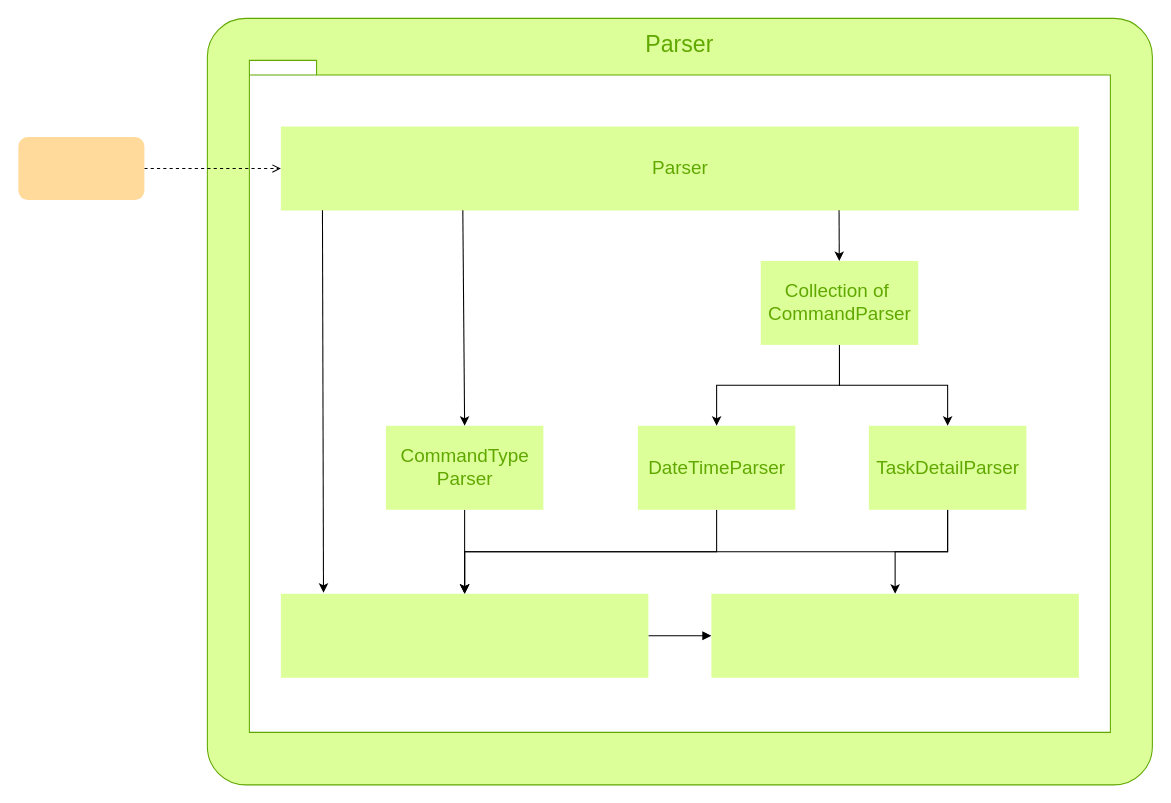
The diagram is 1171 pixels wide and 803 high, and some of its shapes have lost their labels. The centre of each missing label's shape, as x and y in pixels:
"Logic" belongs at (x=81, y=168).
"PublicFunctions" belongs at (x=464, y=635).
"PublicVariables" belongs at (x=894, y=635).
